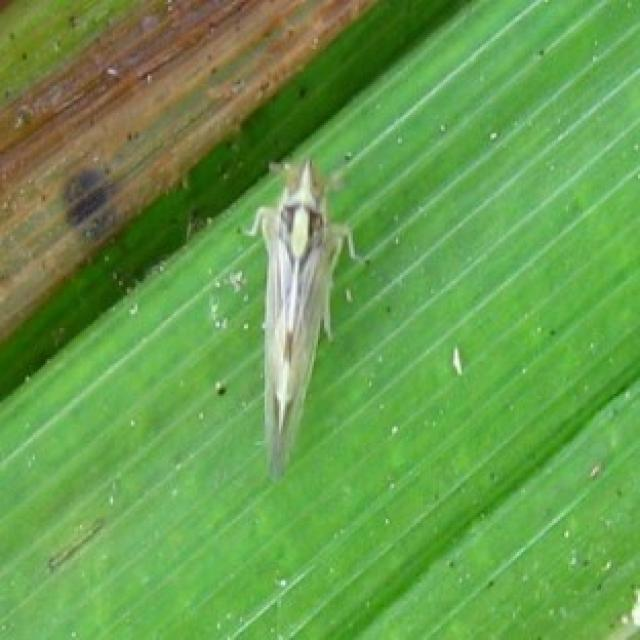brown plant hopper: (244, 158, 355, 474)
